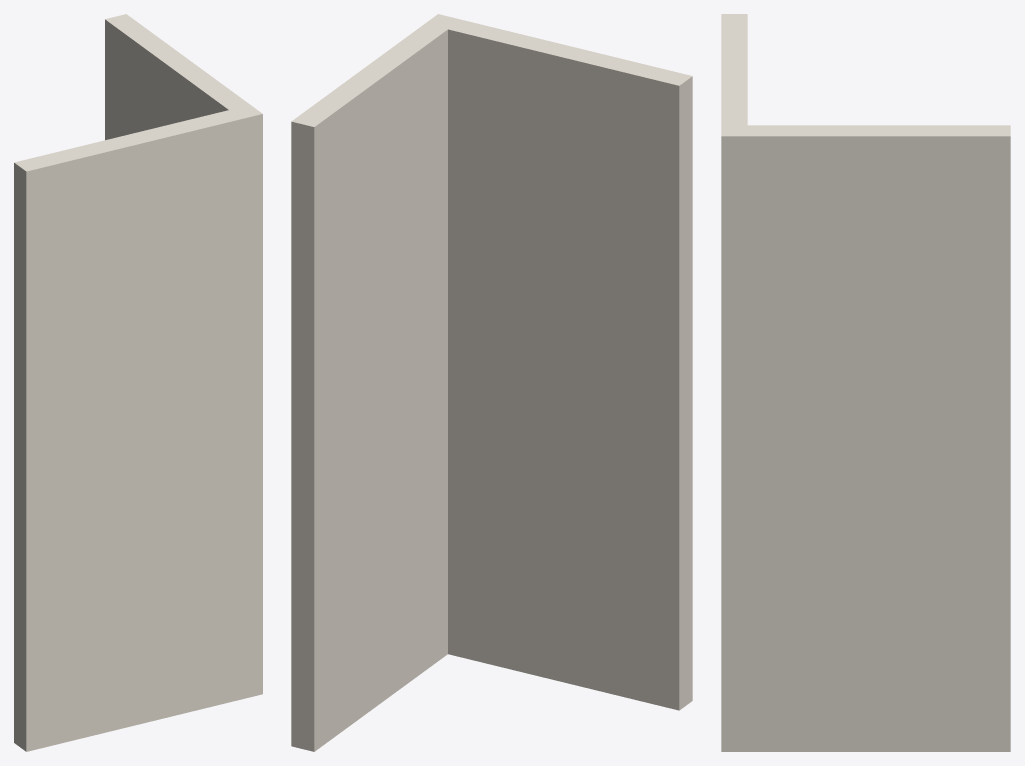
The model's file is wallCorner.glb.
3 views of the same model, side by side, from view 1: azimuth 30°, elevation 25°; view 2: azimuth 150°, elevation 25°; view 3: azimuth 270°, elevation 25° (orthographic). The views are drawn at different scales.
Parts seen in each view (by area): view 1: wallCorner; view 2: wallCorner; view 3: wallCorner.
Boxes of the visible parts, x1=… form: wallCorner: x1=14, y1=14, x2=262, y2=751; wallCorner: x1=291, y1=14, x2=692, y2=751; wallCorner: x1=721, y1=14, x2=1010, y2=751.
Size of the model in its own units: 0.55 by 1.29 by 0.55.
Materials: 1 (1 with a texture image).
